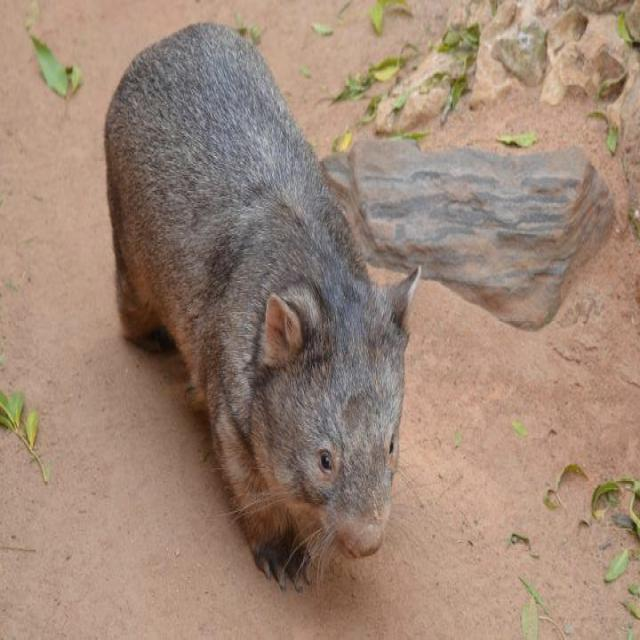wombats: (106, 23, 420, 586)
